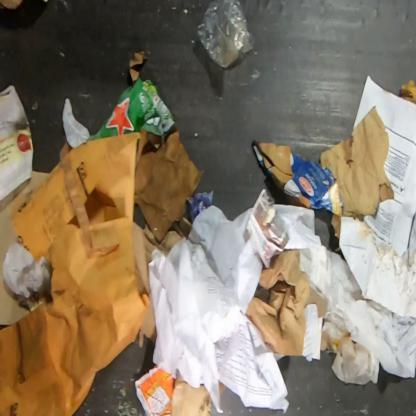cardboard: (86, 50, 205, 244), (319, 104, 415, 320), (133, 204, 193, 348), (0, 170, 51, 325), (252, 139, 343, 216), (0, 0, 25, 9)
rigid_plastic: (195, 0, 254, 68)
